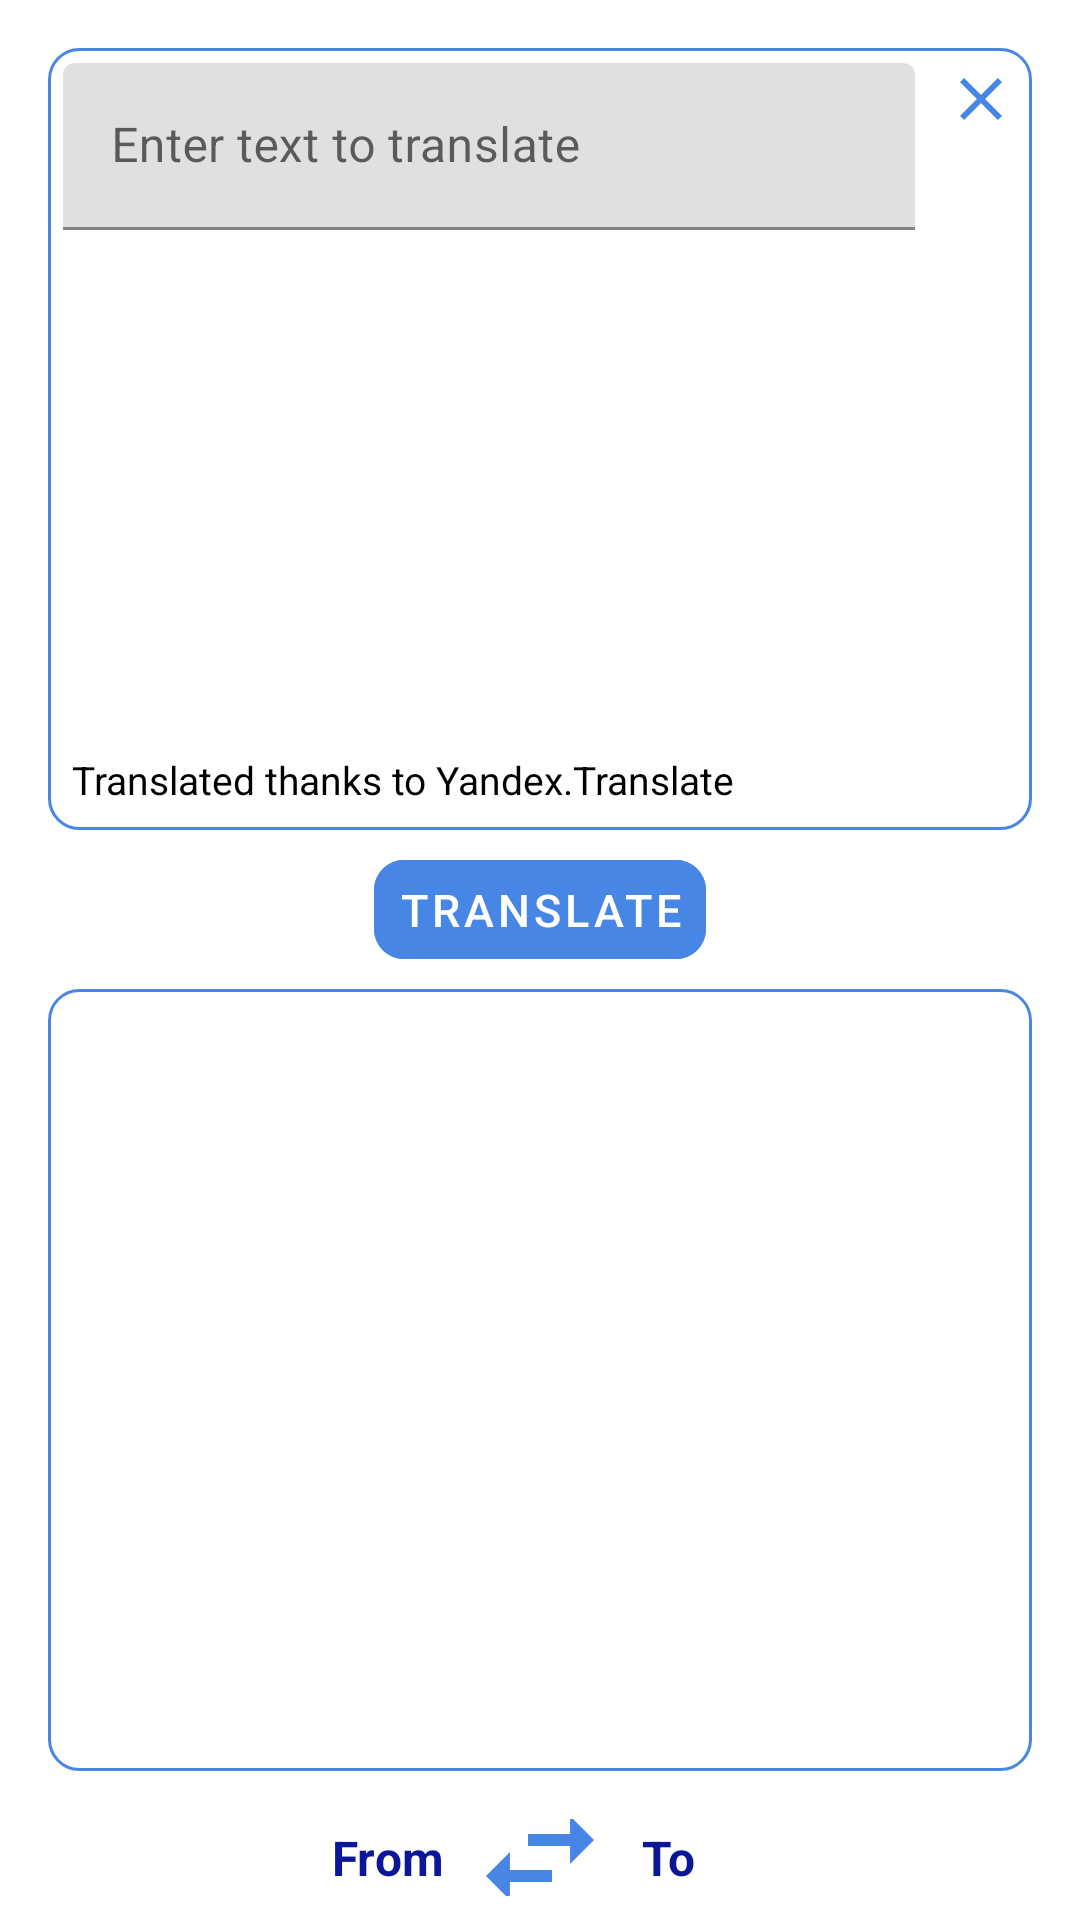

Icon bounding boxes for this 1080x1920 phone screenshot, format (x1, y1, x2, y2):
clear: (960, 78, 1002, 120)
swap: (486, 1819, 594, 1896)
